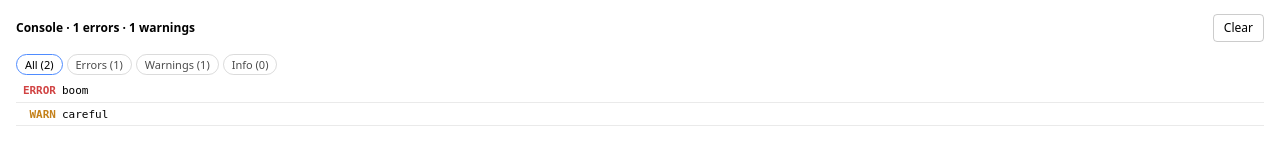
Scenario: ConsoleDrawer › clears both the Host buffer and the local list
This screenshot has width=1280, height=160.
Click the button "Clear" at {"x": 1238, "y": 28}, box [1213,14,1264,42]
Wait 500 ms
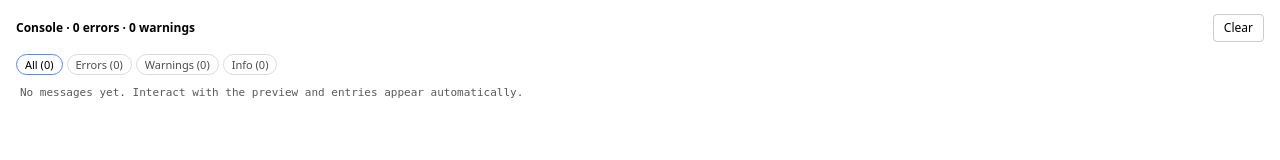
Expected: the text "Console · 0 errors · 0 warnings" is shown, [16,19,195,36]
Expected: the list item "No messages yet. Interact with the preview and entries appear automatically." is shown, [20,86,523,99]
